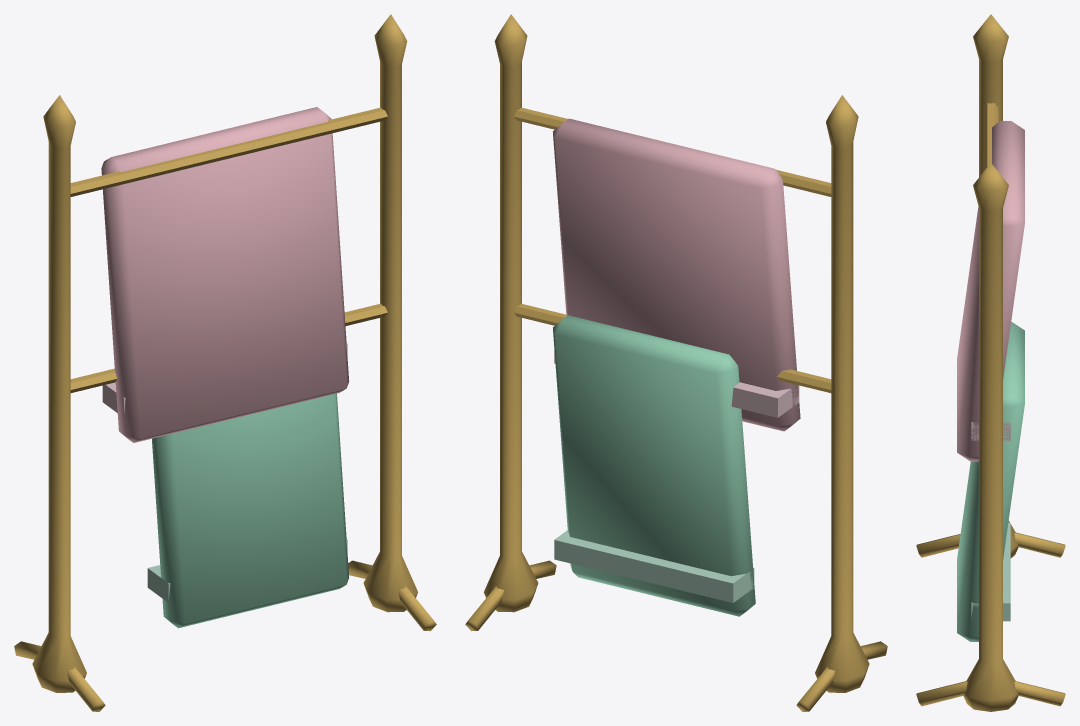
Rendered from towel_rack.glb.
3 views of the same model, side by side, from view 1: azimuth 30°, elevation 25°; view 2: azimuth 150°, elevation 25°; view 3: azimuth 270°, elevation 25° (orthographic). The views are drawn at different scales.
Parts seen in each view (by area): view 1: towel_rack; view 2: towel_rack; view 3: towel_rack.
Boxes of the visible parts, x1,y1,x2,y2 form: towel_rack: (14, 14, 436, 711); towel_rack: (465, 14, 887, 711); towel_rack: (916, 14, 1065, 711).
Size of what is drawn, in the model's own units: 0.8 by 1.2 by 0.3.
